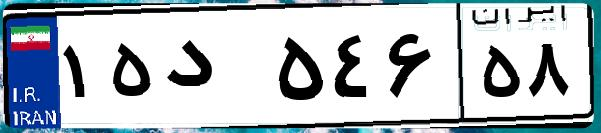1: (57, 26, 110, 100)
4: (330, 28, 385, 110)
5: (270, 28, 330, 110), (475, 38, 525, 113), (110, 28, 158, 98)
6: (385, 28, 445, 110)
8: (525, 38, 570, 115)
د: (158, 20, 270, 120)
